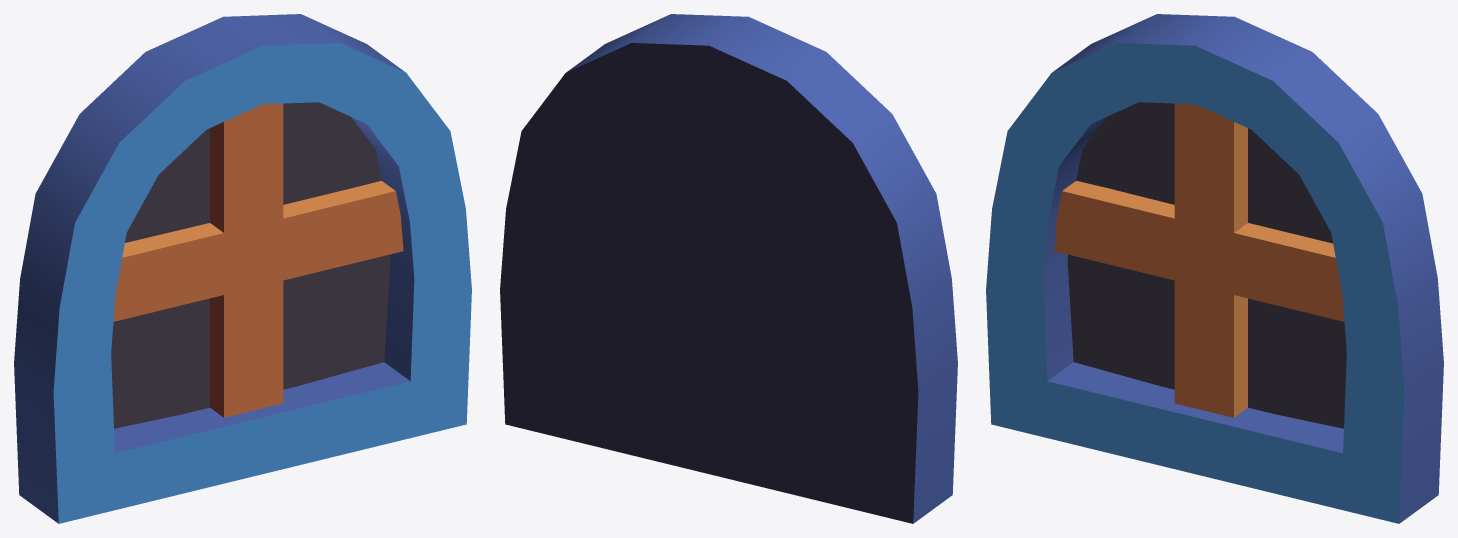
The model's file is SmallWindow01_Blue_Wood.glb.
3 renders of one model, left to right at view 1: azimuth 30°, elevation 25°; view 2: azimuth 150°, elevation 25°; view 3: azimuth 330°, elevation 25°, orthographic.
Parts seen in each view (by area): view 1: SmallWindow01_Blue_Wood; view 2: SmallWindow01_Blue_Wood; view 3: SmallWindow01_Blue_Wood.
Part boxes in pixels (bbox=[...]): SmallWindow01_Blue_Wood: bbox=[14, 14, 471, 523]; SmallWindow01_Blue_Wood: bbox=[500, 14, 957, 523]; SmallWindow01_Blue_Wood: bbox=[986, 14, 1443, 523].
Size of the model in its own units: 0.5801 by 0.5676 by 0.0949.
Materials: 1 (1 with a texture image).
